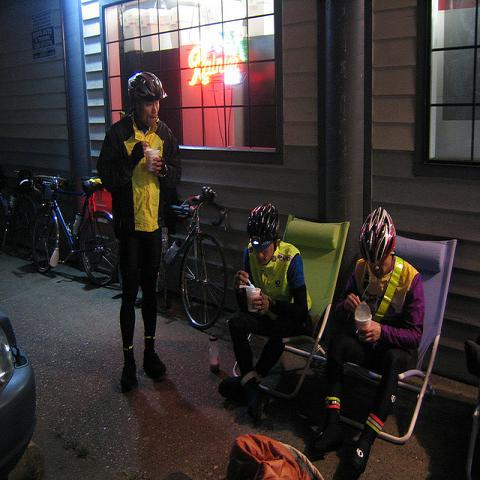car: (2, 313, 36, 473)
